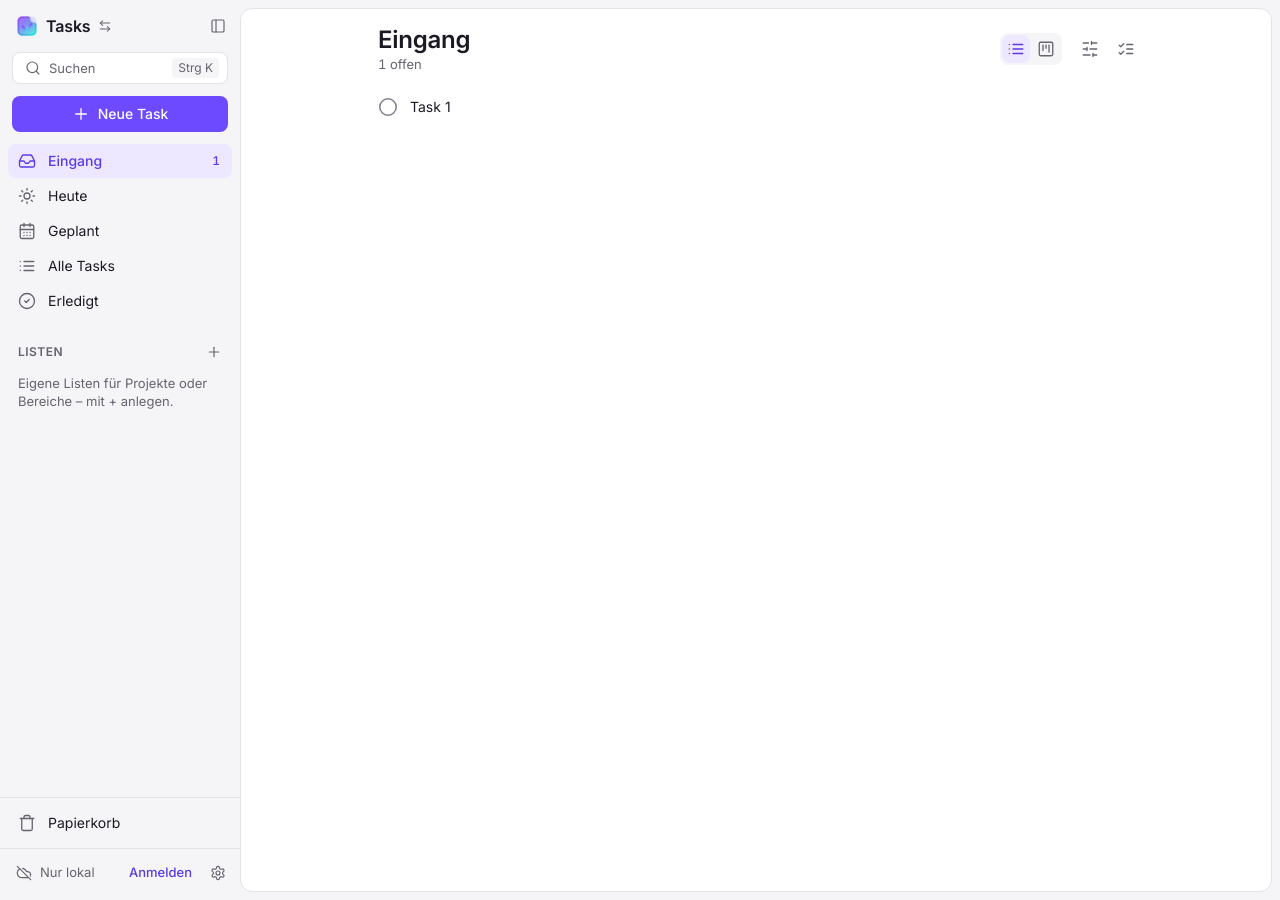
Scenario: TaskList › rolls back when saving fails
The width and height of the screenshot is (1280, 900).
Expected: the option "Task 1" is shown, [374,93,451,121]
What coordinates should you click on to do the following:
click the checkbox named "Erledigt: Task 1"
I would click on:
 (388, 107)
Its box is [374,93,402,121].
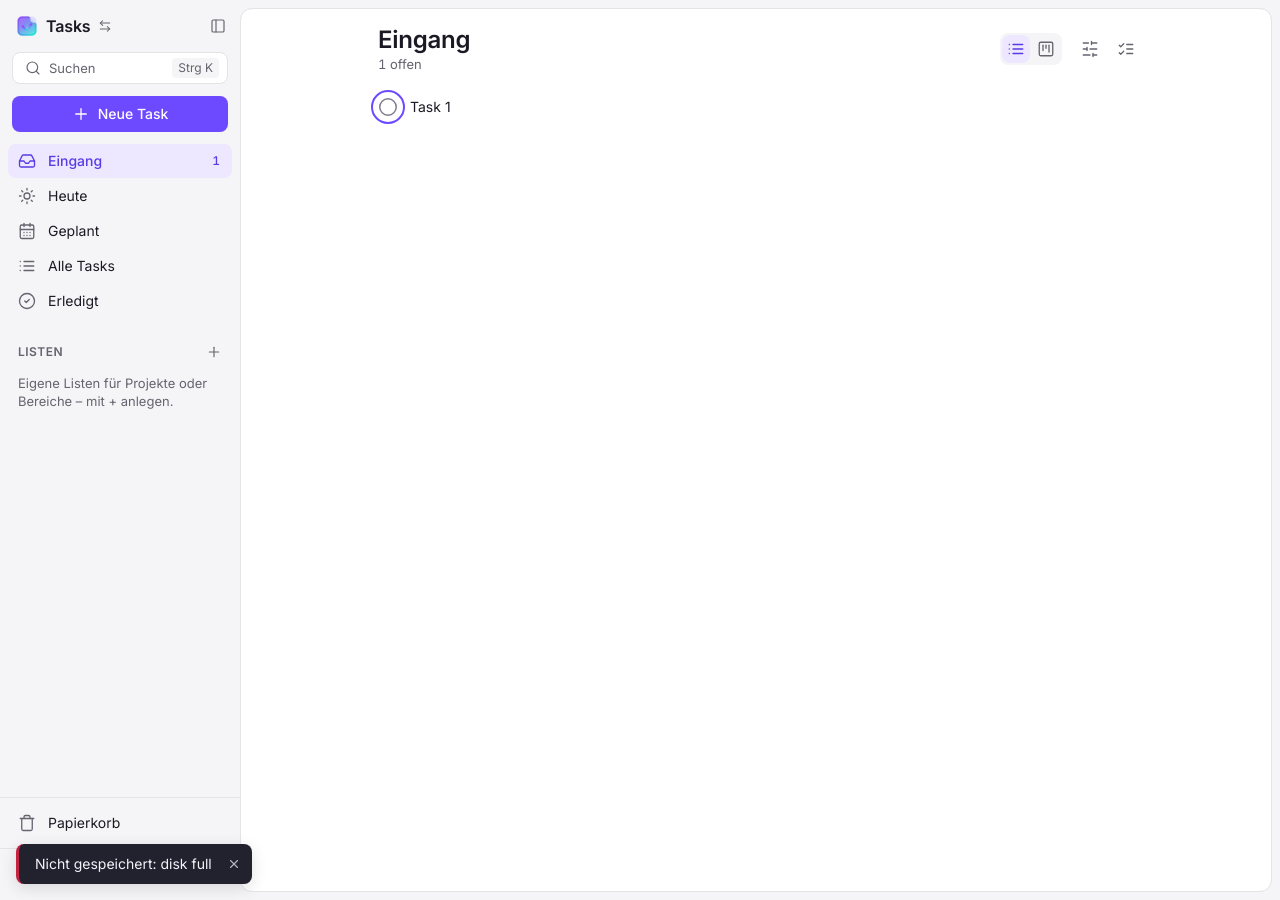
Expected: the number of options is 1, [374,93,451,121]
Result: the message shows "disk full" at [35,855,212,872]
